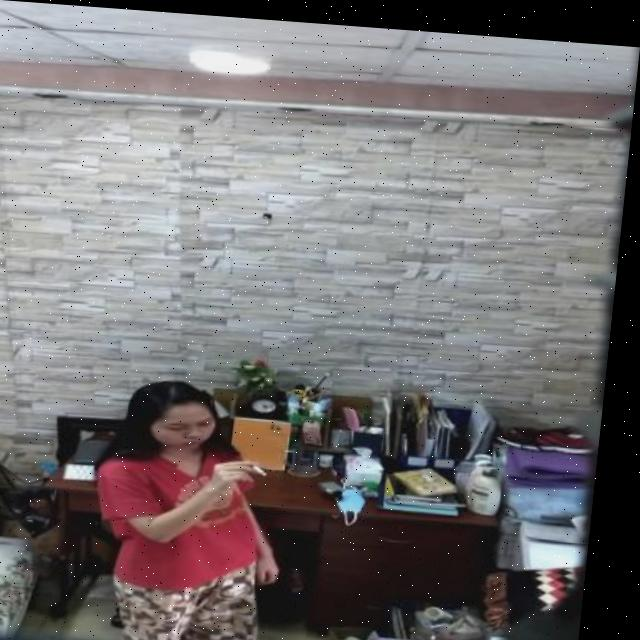cigarette: (261, 459, 278, 472)
